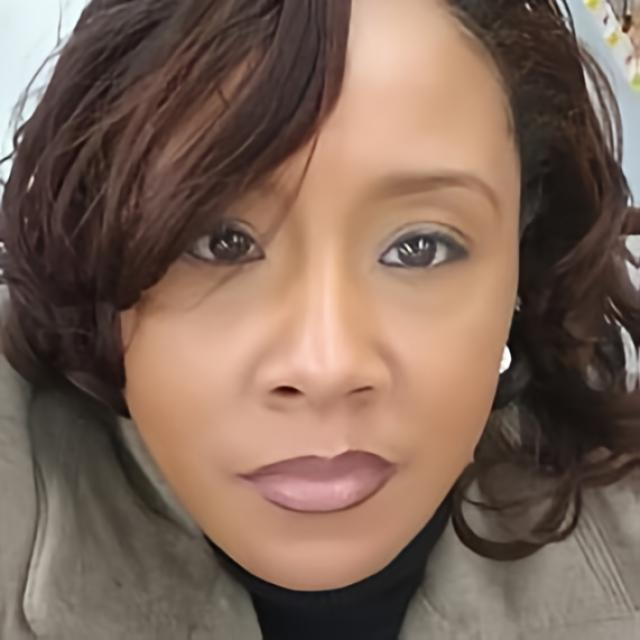neutral: (117, 0, 516, 588)
